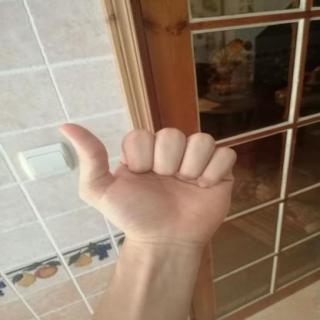DAD: (47, 113, 244, 254)
